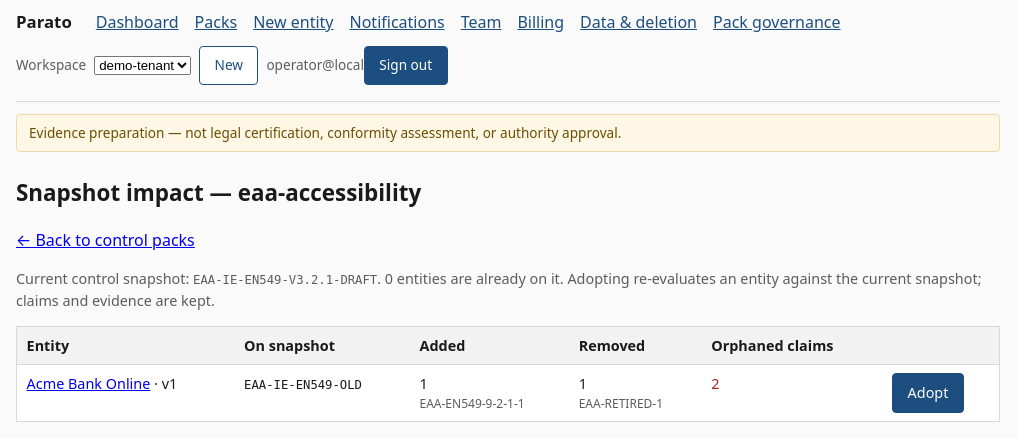
Test case: PackImpactPage › lists impacted entities and adopts one via re-evaluate
The width and height of the screenshot is (1017, 439).
Expected: the text "EAA-EN549-9-2-1-1" is shown, x1=420 y1=395 x2=525 y2=412
Expected: the text "EAA-RETIRED-1" is shown, x1=579 y1=395 x2=663 y2=412
Click the button "Adopt" at (928, 393), box x1=892 y1=373 x2=964 y2=413
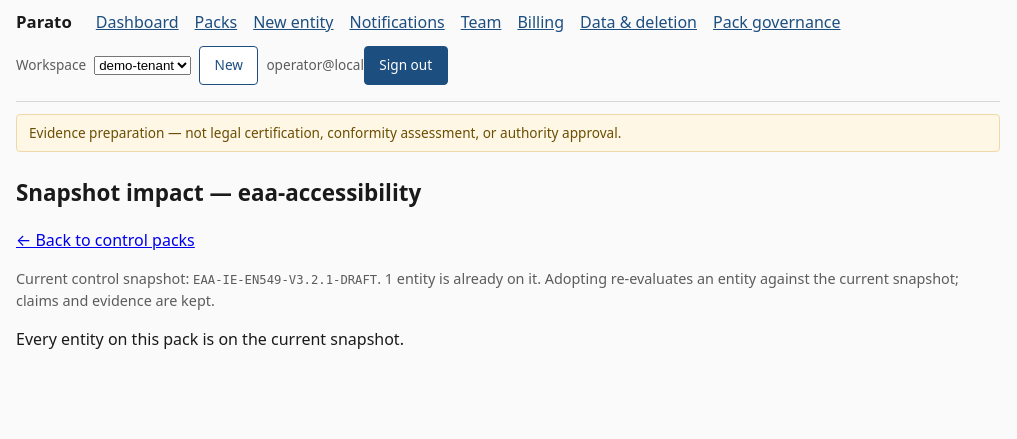
Now the text "Every entity on this pack is on the current snapshot." is shown, box x1=16 y1=328 x2=404 y2=350
